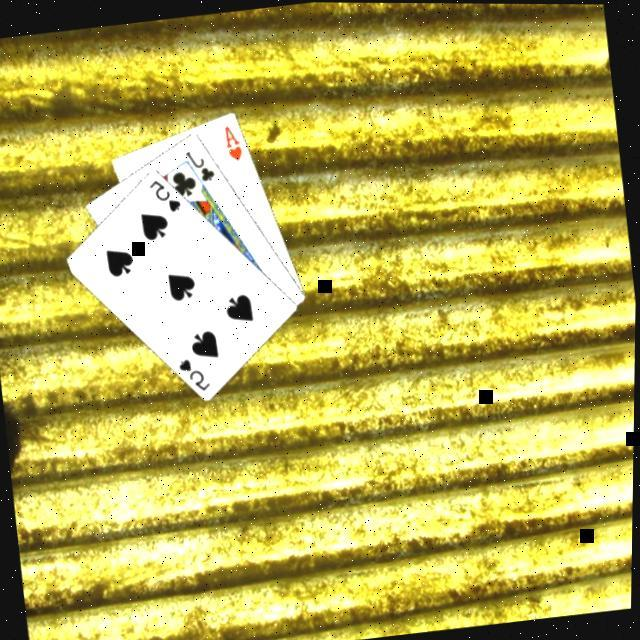5S: (146, 171, 187, 215), (175, 350, 216, 394)
AH: (220, 118, 248, 162)
JC: (182, 142, 220, 184)
